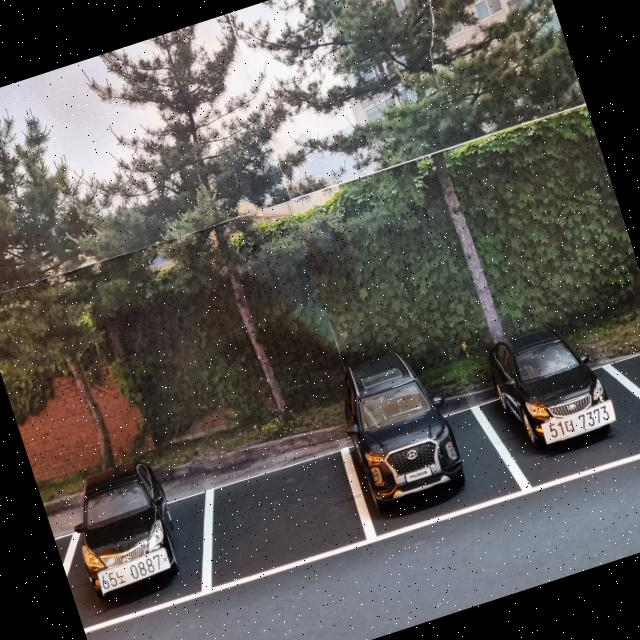empty: (174, 432, 388, 606), (604, 339, 640, 462)
occupied: (324, 332, 475, 519), (476, 308, 624, 466), (55, 456, 188, 600)
